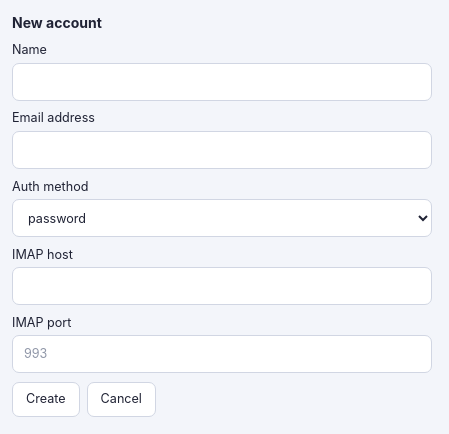
Test: AccountForm › hides the IMAP fields for an archive account
Select "archive (no IMAP)" in the dropdown labelled "Auth method": (222,218) [12,199,432,237]
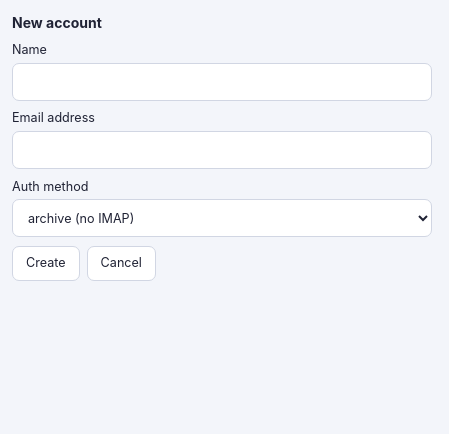
Check: the field with test id "field-imap-host" is gone
